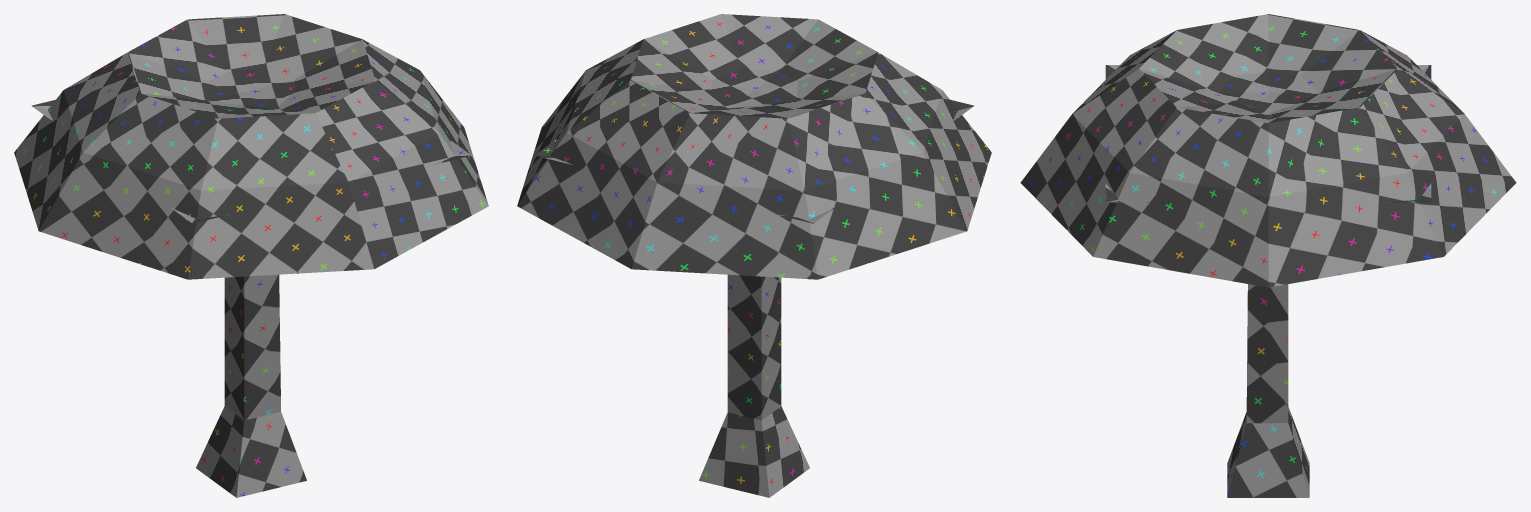
File: BrownMushroomPedestal.glb
3 renders of one model, left to right at view 1: azimuth 30°, elevation 25°; view 2: azimuth 150°, elevation 25°; view 3: azimuth 270°, elevation 25°, orthographic.
Parts seen in each view (by area): view 1: Cap, Stem; view 2: Cap, Stem; view 3: Cap, Stem.
Part boxes in pixels (x1,y1,x2,y2): Cap: (14,14,488,279); Stem: (31,100,471,497); Cap: (517,14,991,279); Stem: (534,100,974,497); Cap: (1020,14,1516,287); Stem: (1105,65,1431,497).
Size of the model in its own units: 2.63 by 2.41 by 2.63.
Materials: 1 (1 with a texture image).
